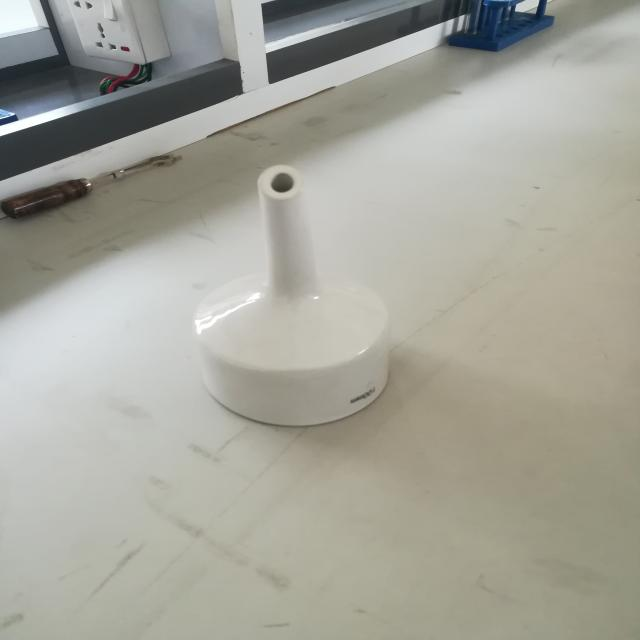Buchner_Funnel: (153, 140, 428, 462)
